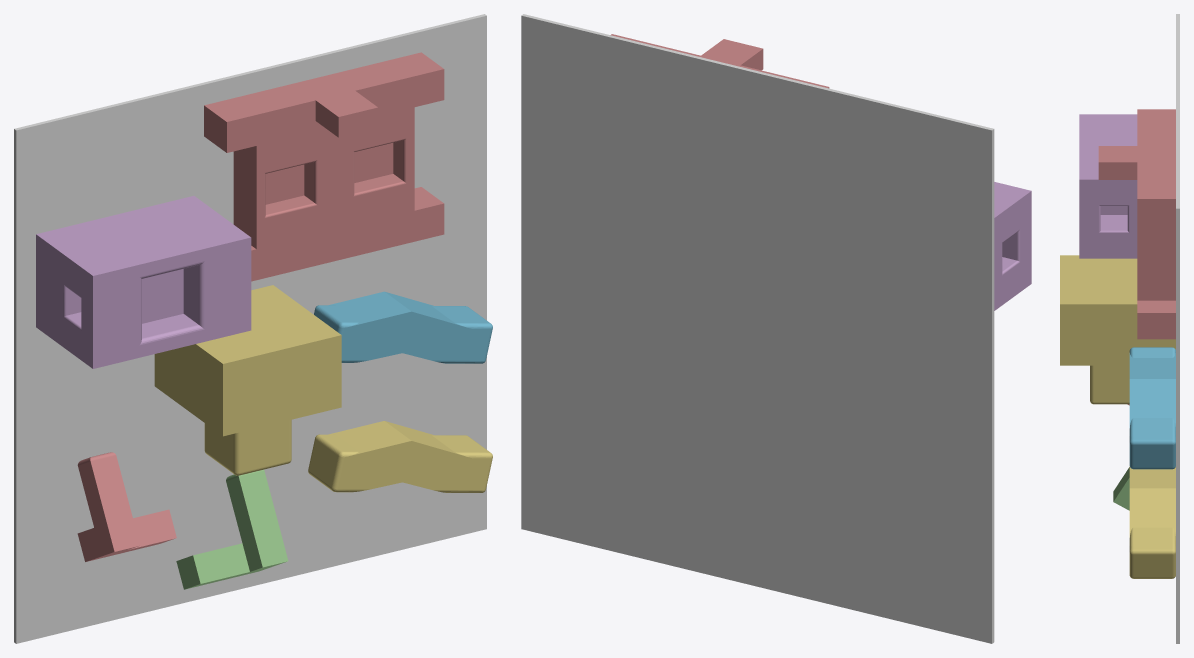
The model's file is pickup_layout.glb.
The picture shows the model from 3 angles, left to right: view 1: azimuth 30°, elevation 25°; view 2: azimuth 150°, elevation 25°; view 3: azimuth 270°, elevation 25°; orthographic projection. The views are drawn at different scales.
Visible parts, largest first — view 1: world, 0.obj, 3.obj, 6.obj, 1.obj, 2.obj, 4.obj, 5.obj; view 2: world, 3.obj, 0.obj; view 3: 0.obj, 6.obj, 3.obj, 2.obj, 1.obj, world, 4.obj.
Boxes of the visible parts, <box> form: world: <box>14,14,486,643</box>; 0.obj: <box>204,52,444,281</box>; 3.obj: <box>36,196,251,368</box>; 6.obj: <box>154,285,341,475</box>; 1.obj: <box>308,421,492,492</box>; 2.obj: <box>314,291,492,363</box>; 4.obj: <box>176,469,288,589</box>; 5.obj: <box>77,452,176,561</box>; world: <box>521,14,994,643</box>; 3.obj: <box>994,182,1031,310</box>; 0.obj: <box>610,34,829,88</box>; 0.obj: <box>1098,109,1175,339</box>; 6.obj: <box>1060,255,1175,404</box>; 3.obj: <box>1079,114,1137,258</box>; 2.obj: <box>1129,347,1175,469</box>; 1.obj: <box>1129,466,1175,578</box>; world: <box>1176,14,1179,643</box>; 4.obj: <box>1113,467,1129,510</box>.
Size of the model in its own units: 23.82 by 24.83 by 6.2.
